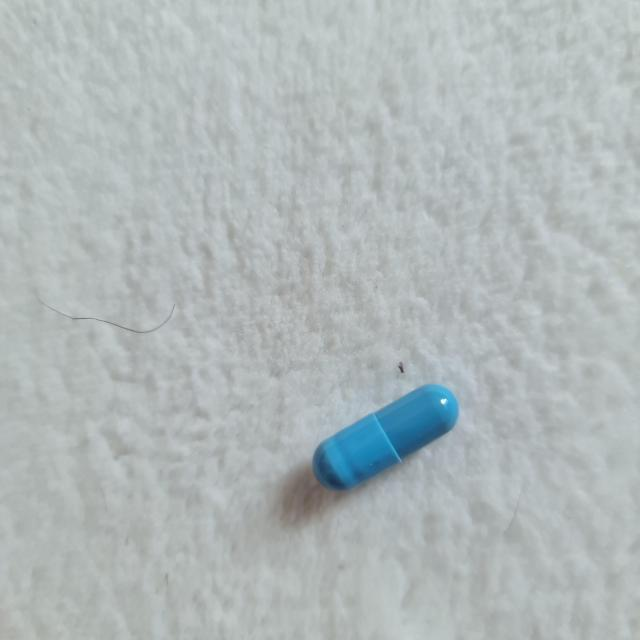pill: (309, 380, 465, 496)
